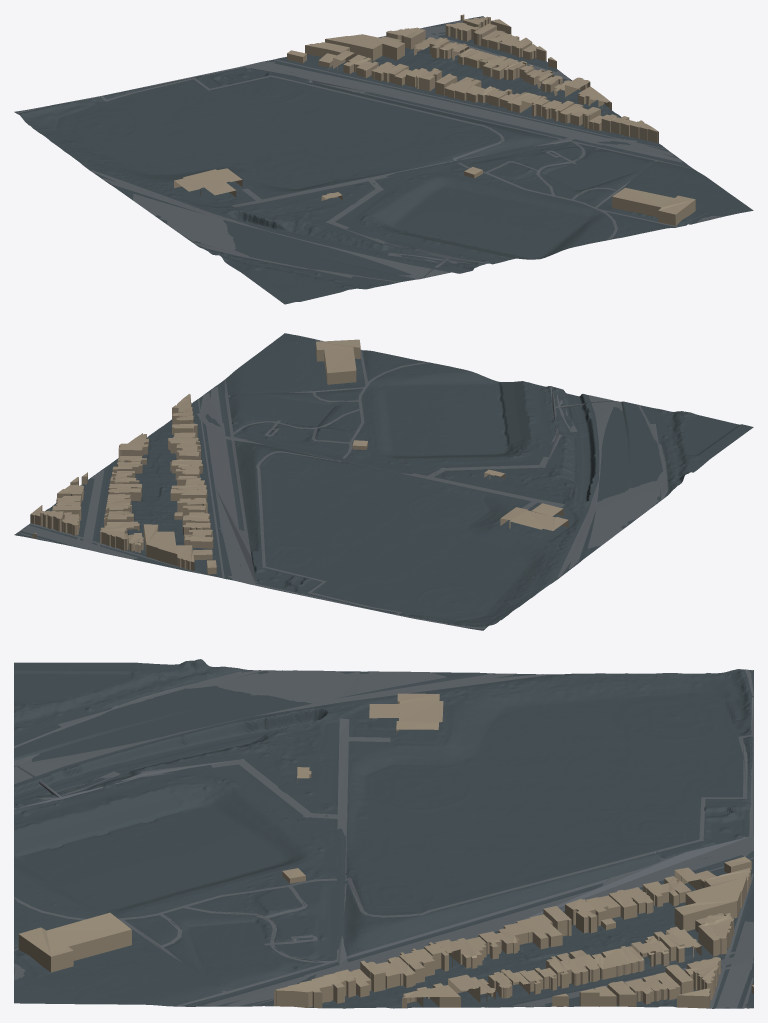
Rendered from epsg26910-1429-10873.lod0.glb.
The picture shows the model from 3 angles, top to bottom: view 1: azimuth 30°, elevation 25°; view 2: azimuth 150°, elevation 25°; view 3: azimuth 270°, elevation 25°; orthographic projection. The views are drawn at different scales.
Parts seen in each view (by area): view 1: epsg26910-1429-10873-lod0; view 2: epsg26910-1429-10873-lod0; view 3: epsg26910-1429-10873-lod0.
Boxes of the visible parts, x1,y1,x2,y2 form: epsg26910-1429-10873-lod0: (14,14,753,304); epsg26910-1429-10873-lod0: (14,333,753,630); epsg26910-1429-10873-lod0: (14,659,753,1008).
Bounding box in the file's own units: 384 × 21.21 × 384.
